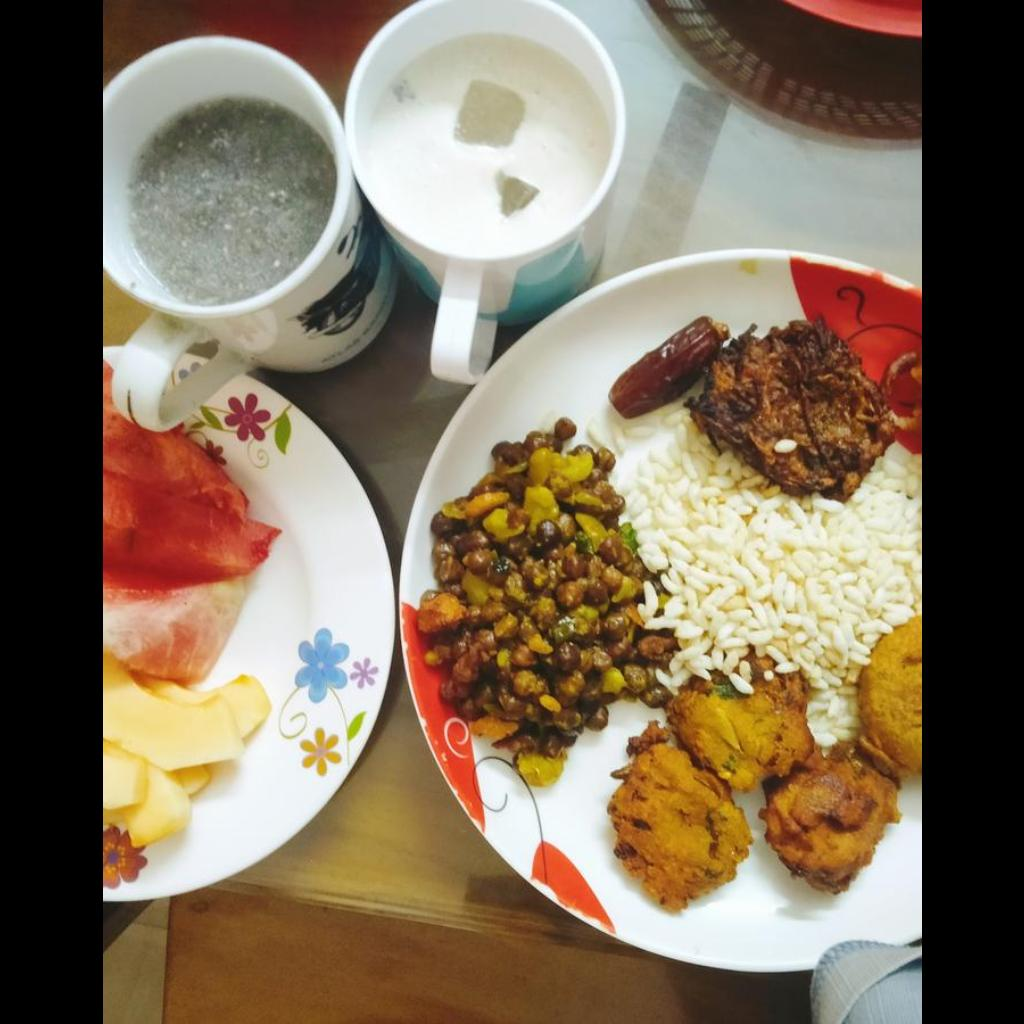apple: (102, 651, 269, 849)
chola: (423, 418, 657, 782)
chop-alu: (774, 622, 920, 891)
dates: (615, 313, 723, 416)
juice: (344, 0, 621, 249), (126, 102, 323, 290)
peyaju: (609, 685, 804, 902), (703, 324, 891, 494)
puffed-rice: (638, 425, 915, 683)
watermelon: (102, 358, 278, 686)
